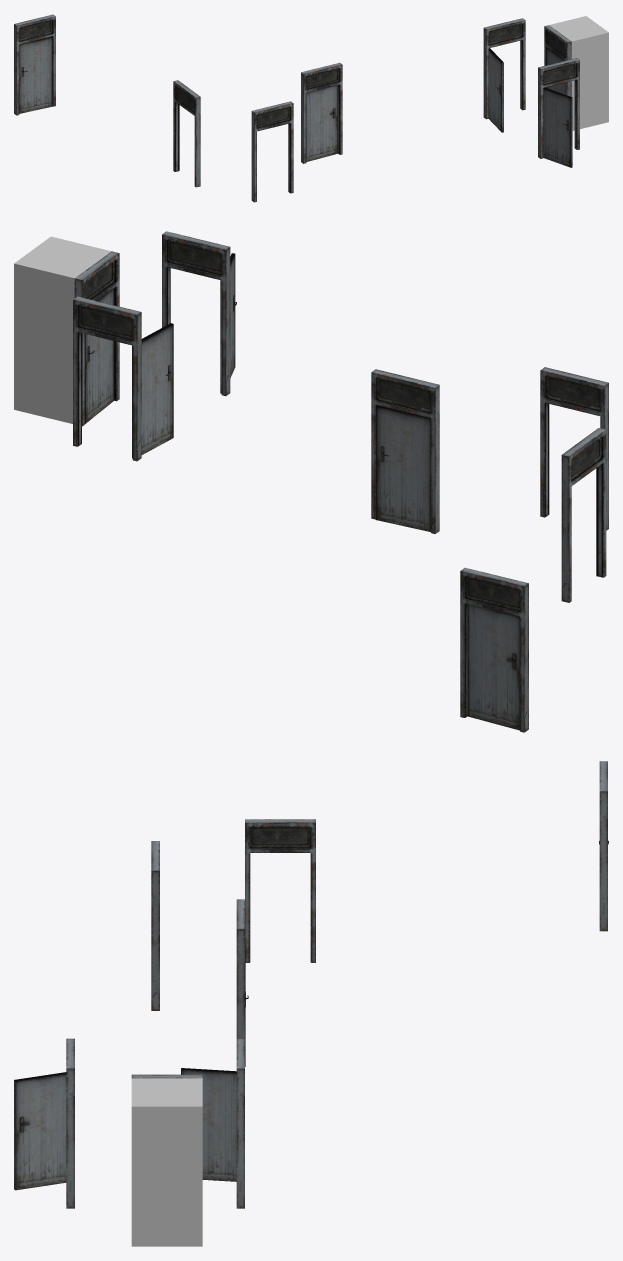
Rendered from Doors_H3.fbx.
3 renders of one model, top to bottom at view 1: azimuth 30°, elevation 25°; view 2: azimuth 150°, elevation 25°; view 3: azimuth 270°, elevation 25°, orthographic. The views are drawn at different scales.
Visible parts, largest first — view 1: SingleDoorFrame (×7), SingleDoor (×5), DoorBlind; view 2: SingleDoorFrame (×7), SingleDoor (×5), DoorBlind; view 3: DoorBlind, SingleDoorFrame (×6), SingleDoor (×2).
Boxes of the visible parts, bbox=[...] form: SingleDoorFrame (×7): bbox=[14, 14, 579, 202]; SingleDoor (×5): bbox=[19, 36, 572, 167]; DoorBlind: bbox=[549, 16, 608, 130]; SingleDoorFrame (×7): bbox=[73, 231, 608, 732]; SingleDoor (×5): bbox=[85, 253, 519, 730]; DoorBlind: bbox=[14, 236, 111, 423]; DoorBlind: bbox=[131, 1078, 202, 1246]; SingleDoorFrame (×6): bbox=[66, 761, 607, 1208]; SingleDoor (×2): bbox=[14, 1068, 236, 1190].
Bounding box in the file's own units: 14.09 × 2.88 × 10.49.
